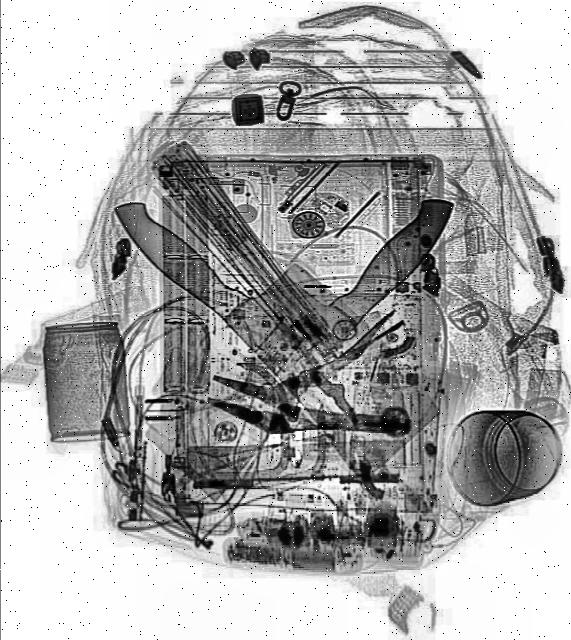Knife: (100, 136, 448, 492), (242, 184, 460, 433)
